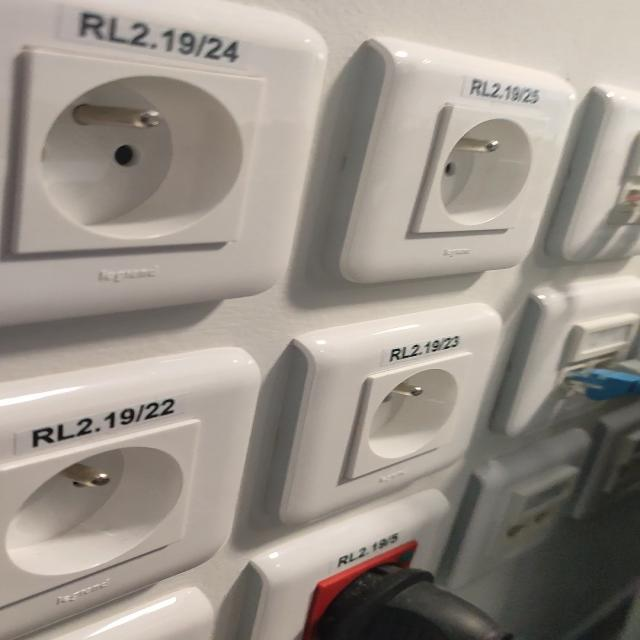house plug: (7, 51, 266, 253), (0, 418, 200, 610), (416, 104, 555, 232), (351, 351, 473, 480)
